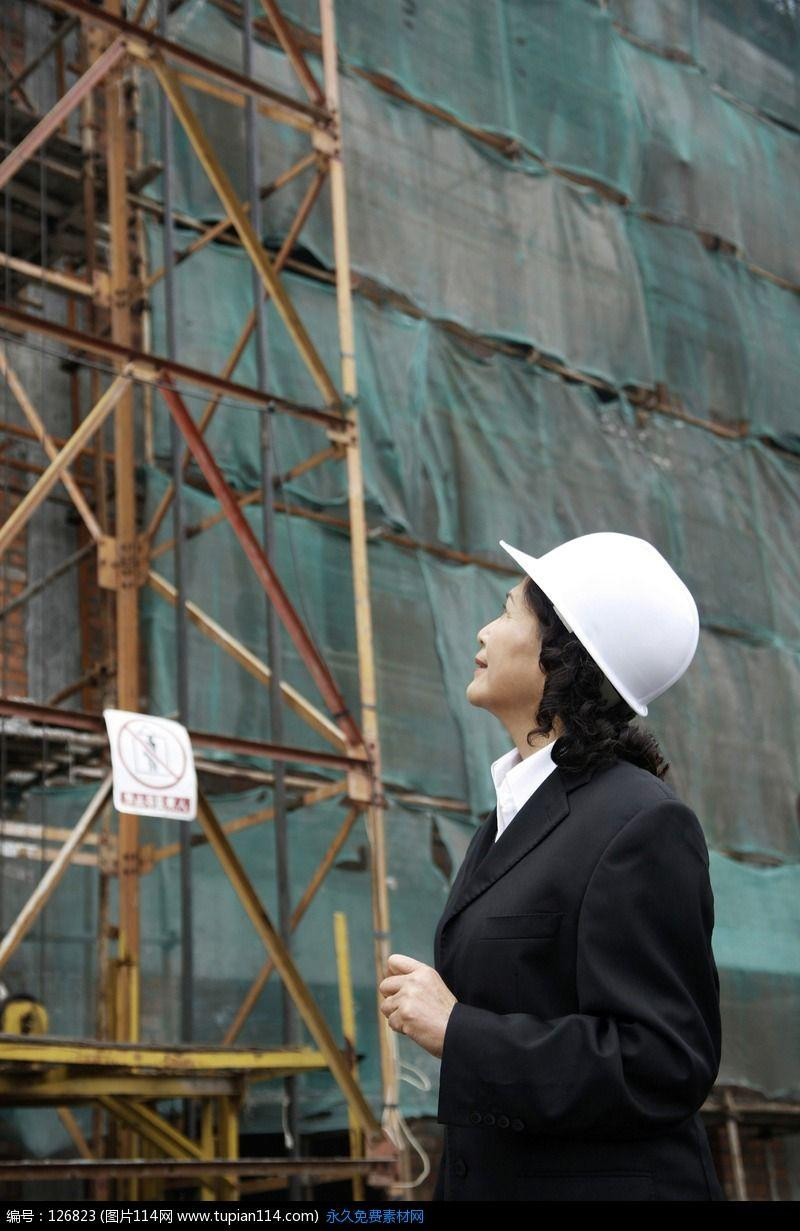helmet: (496, 536, 701, 721)
